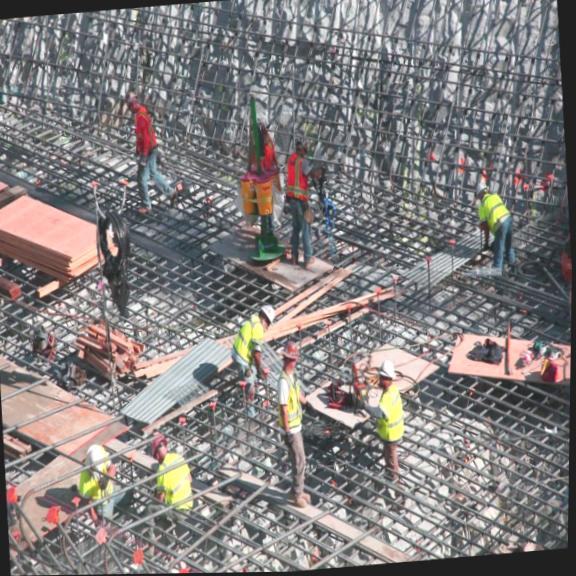safety_vest: (154, 448, 198, 520), (274, 364, 308, 442), (370, 384, 410, 449), (471, 184, 516, 238), (72, 460, 119, 511), (230, 310, 268, 369), (130, 104, 161, 160), (281, 147, 312, 202)
